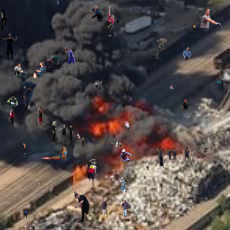Human: (73, 191, 90, 223), (14, 61, 46, 78), (47, 47, 77, 65), (51, 121, 74, 144), (101, 199, 130, 217), (19, 81, 37, 110), (197, 9, 223, 29), (8, 109, 35, 128), (2, 33, 18, 60), (41, 146, 68, 161), (88, 5, 104, 29), (166, 147, 190, 161), (105, 6, 115, 37), (143, 38, 168, 50), (87, 161, 97, 190), (118, 149, 132, 168), (181, 99, 192, 113), (0, 9, 7, 31), (10, 209, 27, 218), (158, 147, 165, 168), (38, 102, 44, 125), (7, 96, 18, 107), (120, 177, 127, 193), (87, 159, 98, 169), (183, 47, 191, 59), (150, 51, 160, 59), (199, 147, 212, 153), (124, 121, 130, 133), (74, 133, 80, 145), (107, 141, 118, 147), (146, 166, 152, 177), (95, 81, 103, 88), (81, 137, 85, 148), (23, 143, 26, 154), (192, 24, 196, 32), (38, 181, 41, 188), (217, 80, 222, 84), (37, 198, 42, 202), (170, 85, 174, 90), (180, 25, 185, 29), (57, 0, 60, 6), (119, 142, 122, 148), (116, 20, 119, 26), (46, 93, 49, 99), (161, 203, 164, 209)
